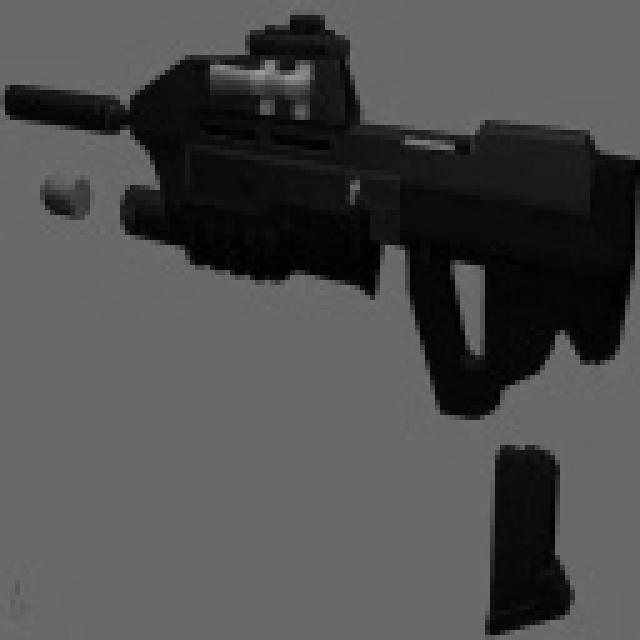Rifle: (0, 0, 640, 431)
